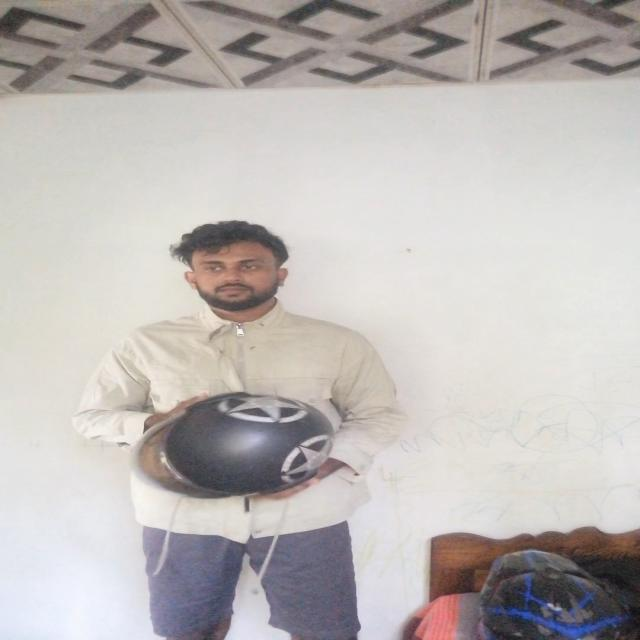Jacket_Wearer: (81, 305, 392, 523)
Person: (96, 217, 399, 640)
